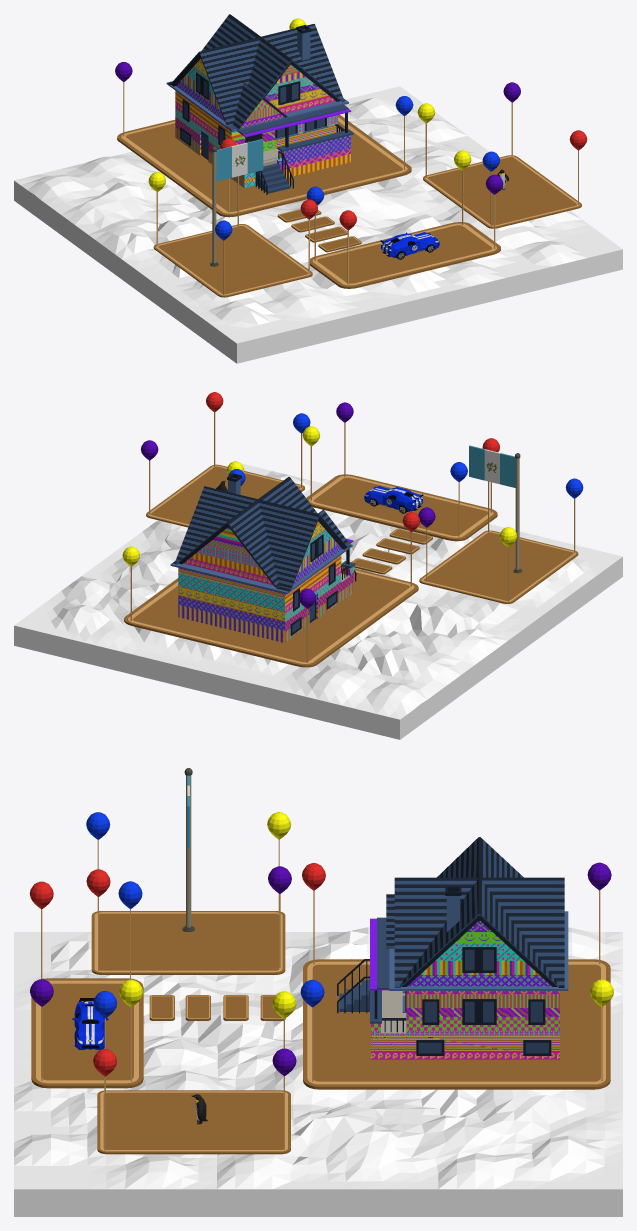
The picture shows the model from 3 angles, top to bottom: view 1: azimuth 30°, elevation 25°; view 2: azimuth 150°, elevation 25°; view 3: azimuth 270°, elevation 25°; orthographic projection. The views are drawn at different scales.
Parts seen in each view (by area): view 1: Cube.013, Cube.676, OBJRANDOM_GUATEMALAN_FLAG, VEHICLES_RACING_CAR; view 2: Cube.013, Cube.676, OBJRANDOM_GUATEMALAN_FLAG, VEHICLES_RACING_CAR; view 3: Cube.013, Cube.676, VEHICLES_RACING_CAR, OBJRANDOM_GUATEMALAN_FLAG.
Part boxes in pixels (x1,y1,x2,y2): Cube.013: [14, 18, 622, 363]; Cube.676: [166, 14, 353, 194]; OBJRANDOM_GUATEMALAN_FLAG: [210, 139, 263, 266]; VEHICLES_RACING_CAR: [380, 232, 439, 259]; Cube.013: [14, 392, 622, 739]; Cube.676: [170, 473, 356, 642]; OBJRANDOM_GUATEMALAN_FLAG: [469, 445, 521, 573]; VEHICLES_RACING_CAR: [364, 486, 423, 513]; Cube.013: [14, 812, 622, 1216]; Cube.676: [337, 837, 568, 1059]; VEHICLES_RACING_CAR: [72, 998, 108, 1049]; OBJRANDOM_GUATEMALAN_FLAG: [182, 768, 194, 931].
Bounding box in the file's own units: 4000 × 1691 × 4000.
Materials: 39 (5 with a texture image).
